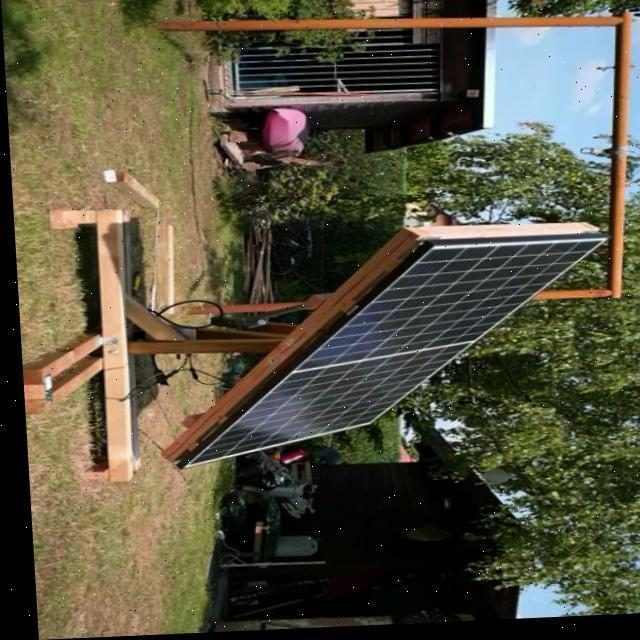Normal Solar Panel: (165, 240, 610, 472)
